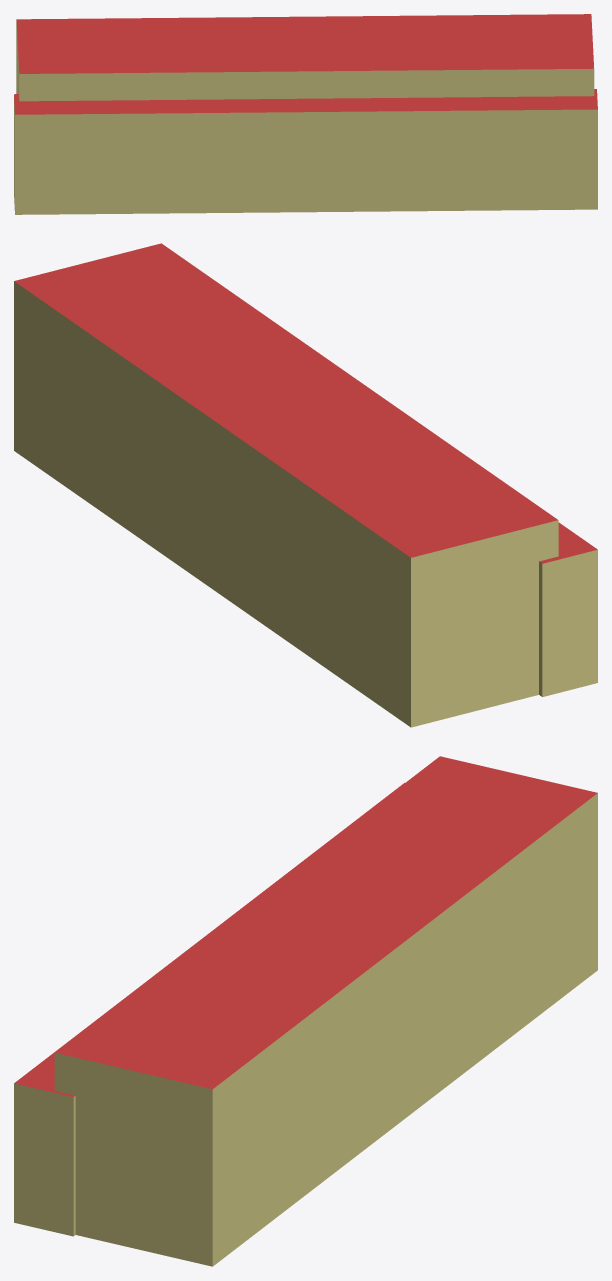
3 views of the same model, one above another, from view 1: azimuth 30°, elevation 25°; view 2: azimuth 150°, elevation 25°; view 3: azimuth 270°, elevation 25° (orthographic). The views are drawn at different scales.
Visible parts, largest first — view 1: group_4, group_6, group_7, group_3; view 2: group_7, group_6, group_4, group_3; view 3: group_7, group_6, group_4, group_3.
Boxes of the visible parts, left/top/right/bottom form: group_4: left=14, top=97, right=597, bottom=214; group_6: left=16, top=14, right=593, bottom=73; group_7: left=16, top=19, right=594, bottom=101; group_3: left=14, top=89, right=597, bottom=114; group_7: left=14, top=281, right=558, bottom=727; group_6: left=14, top=243, right=557, bottom=557; group_4: left=539, top=549, right=597, bottom=696; group_3: left=539, top=522, right=597, bottom=563; group_7: left=54, top=793, right=597, bottom=1266; group_6: left=55, top=756, right=597, bottom=1089; group_4: left=14, top=1083, right=75, bottom=1236; group_3: left=14, top=783, right=404, bottom=1096.
Size of the model in its own units: 60.08 by 43.02 by 14.42.
